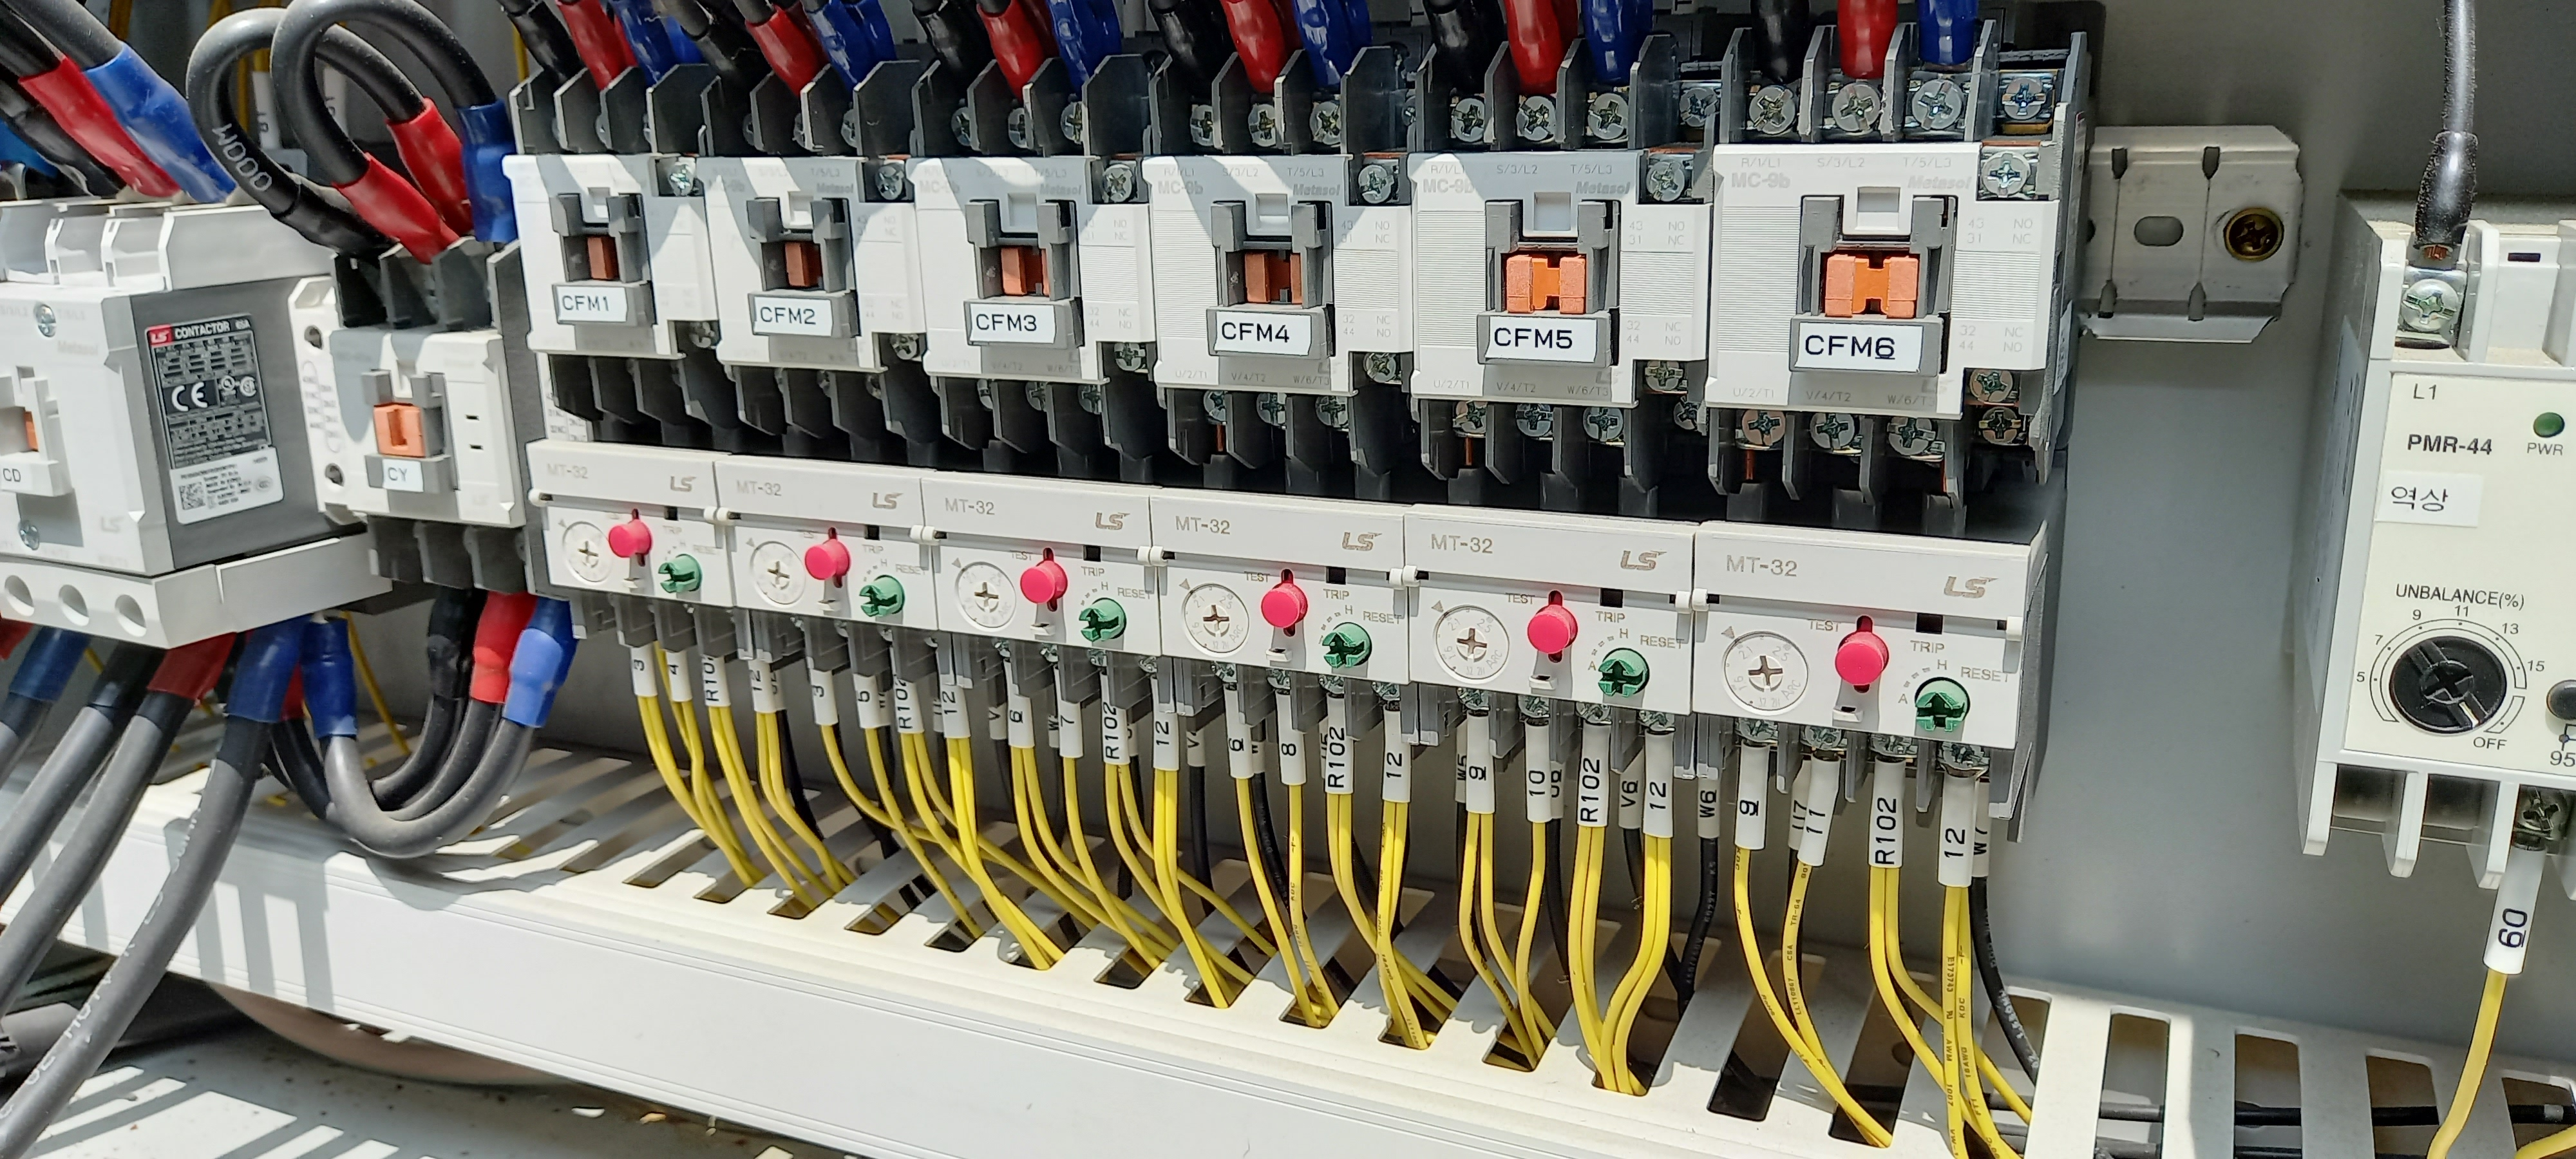briged: (499, 92, 2078, 484)
